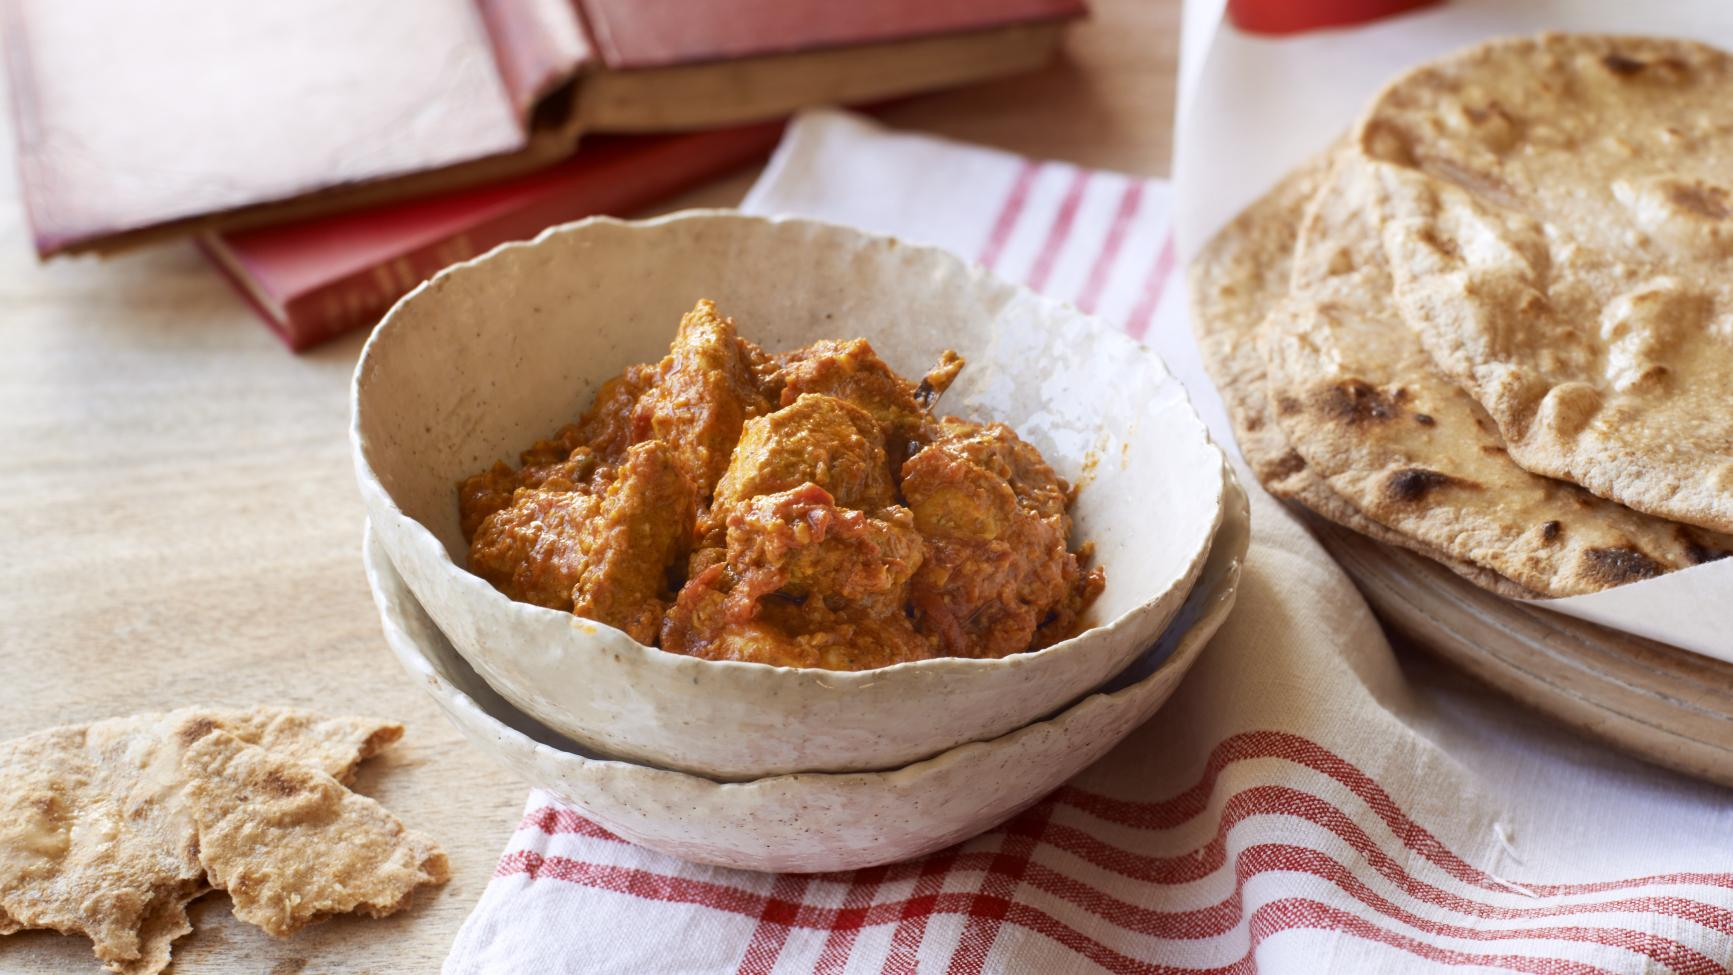chapati: (1188, 139, 1733, 598), (1357, 33, 1733, 533), (1638, 318, 1648, 330)
